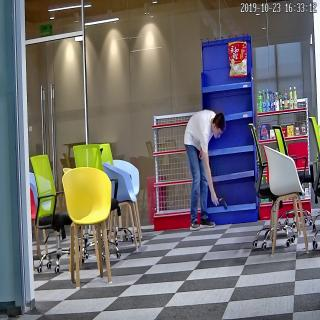gun: (210, 194, 232, 214)
